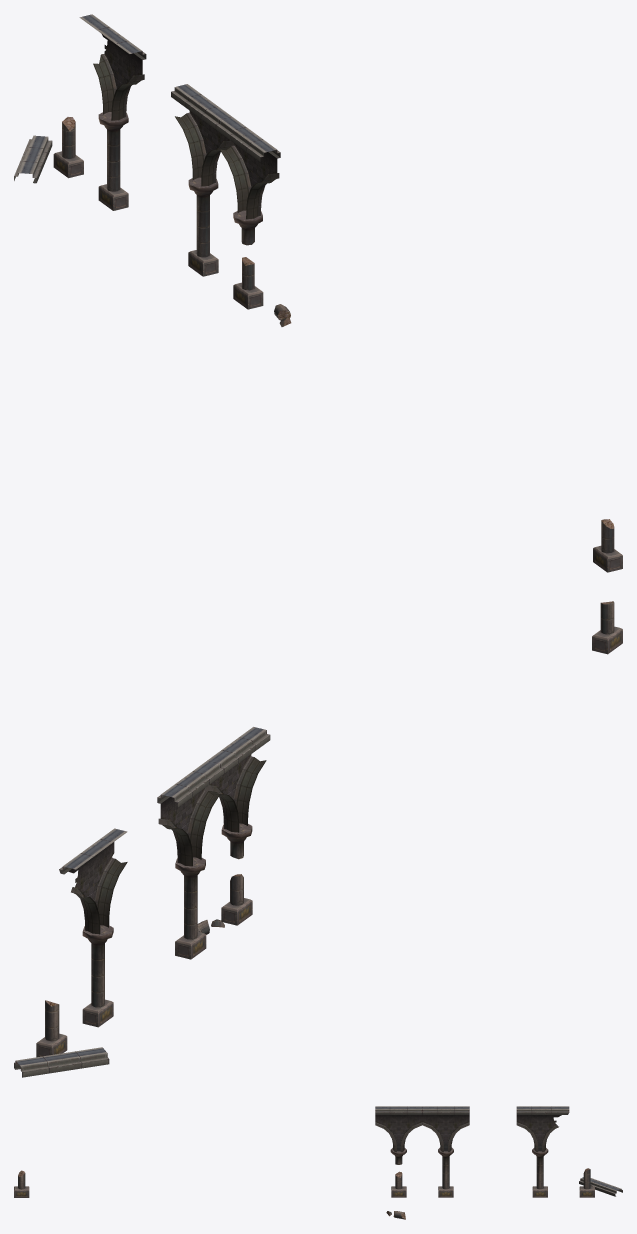
Rendered from zhuzi_cemian.FBX.
3 renders of one model, top to bottom at view 1: azimuth 30°, elevation 25°; view 2: azimuth 150°, elevation 25°; view 3: azimuth 270°, elevation 25°, orthographic. The views are drawn at different scales.
Visible parts, largest first — view 1: zhuzi02; view 2: zhuzi02; view 3: zhuzi02.
Boxes of the visible parts, x1,y1,x2,y2 form: zhuzi02: (14, 14, 622, 572); zhuzi02: (14, 601, 622, 1077); zhuzi02: (14, 1106, 622, 1219).
Size of the model in its own units: 635 by 1215 by 6572.
